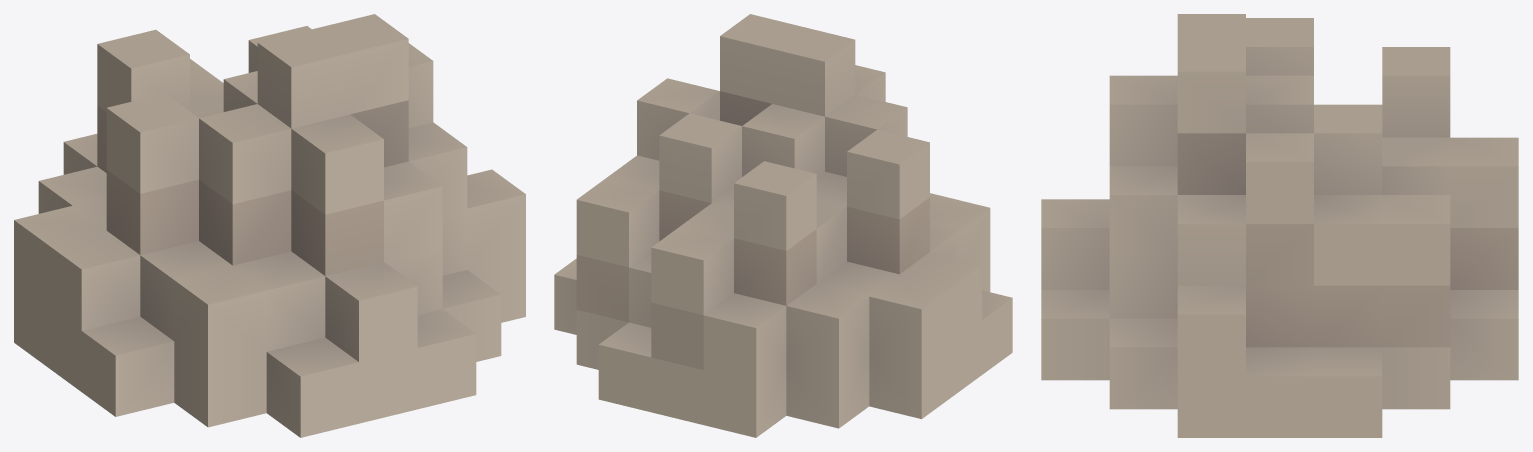
File: decor_crag_a.glb
3 renders of one model, left to right at view 1: azimuth 30°, elevation 25°; view 2: azimuth 150°, elevation 25°; view 3: azimuth 270°, elevation 25°, orthographic. The views are drawn at different scales.
Visible parts, largest first — view 1: decor_crag_a; view 2: decor_crag_a; view 3: decor_crag_a.
Part boxes in pixels (x1,y1,x2,y2): decor_crag_a: [14, 14, 525, 437]; decor_crag_a: [554, 14, 1012, 437]; decor_crag_a: [1041, 14, 1518, 437].
Size of the model in its own units: 0.875 by 0.625 by 0.875.
